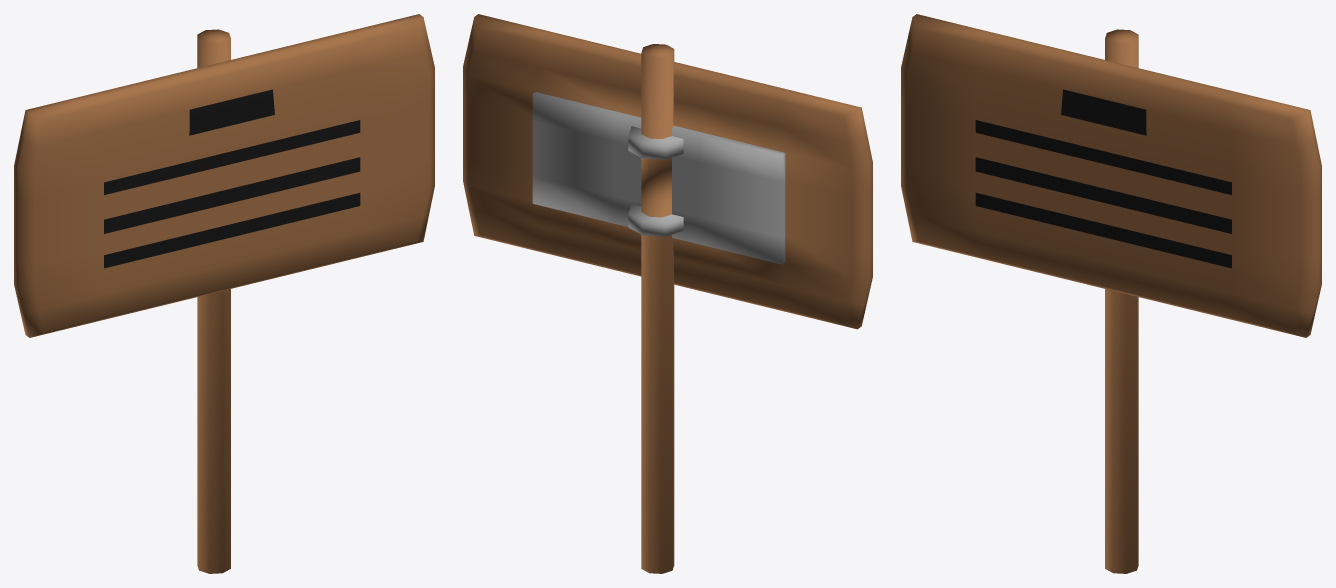
File: Panneau_Aide.fbx
The picture shows the model from 3 angles, left to right: view 1: azimuth 30°, elevation 25°; view 2: azimuth 150°, elevation 25°; view 3: azimuth 330°, elevation 25°; orthographic projection. The views are drawn at different scales.
Visible parts, largest first — view 1: Panneau; view 2: Panneau; view 3: Panneau.
Part boxes in pixels (bbox=[...]): Panneau: bbox=[14, 14, 434, 573]; Panneau: bbox=[463, 14, 872, 573]; Panneau: bbox=[901, 14, 1321, 573].
Bounding box in the file's own units: 223 × 271 × 31.32.
